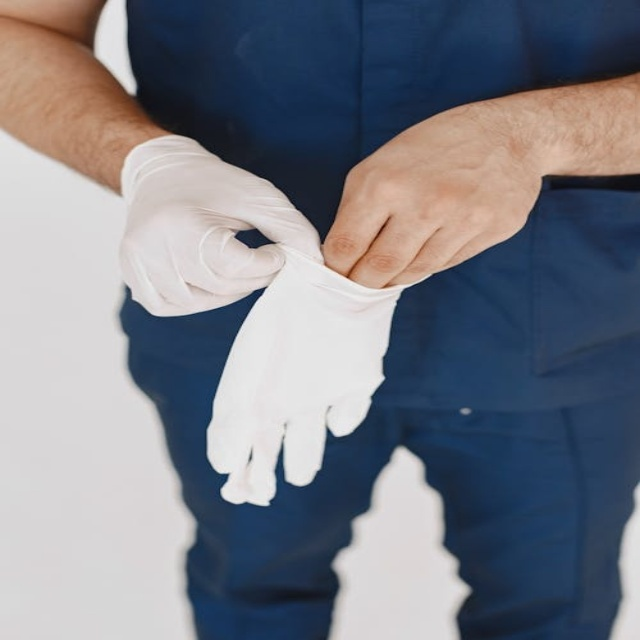Guantes: (192, 240, 430, 514), (96, 125, 315, 303)
Sin_guantes: (316, 110, 551, 293)
